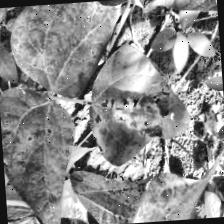ALS: (88, 52, 194, 166), (10, 0, 132, 97), (0, 90, 73, 224), (71, 166, 149, 224)
